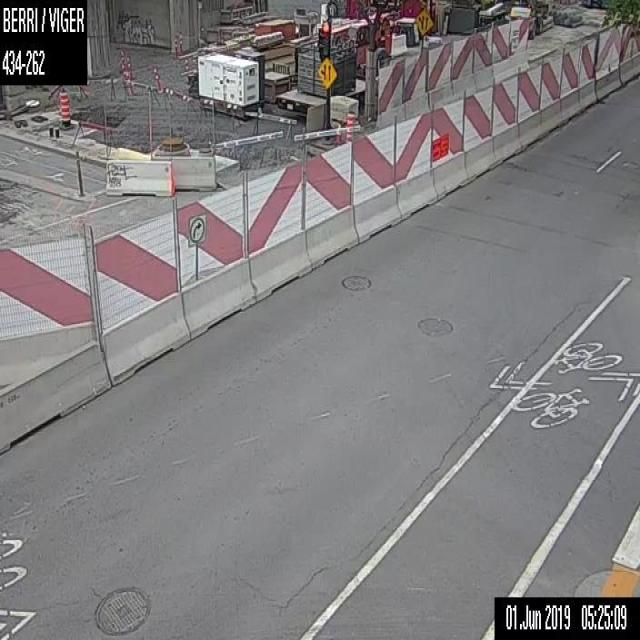construction: (58, 87, 70, 125), (344, 108, 356, 143)
